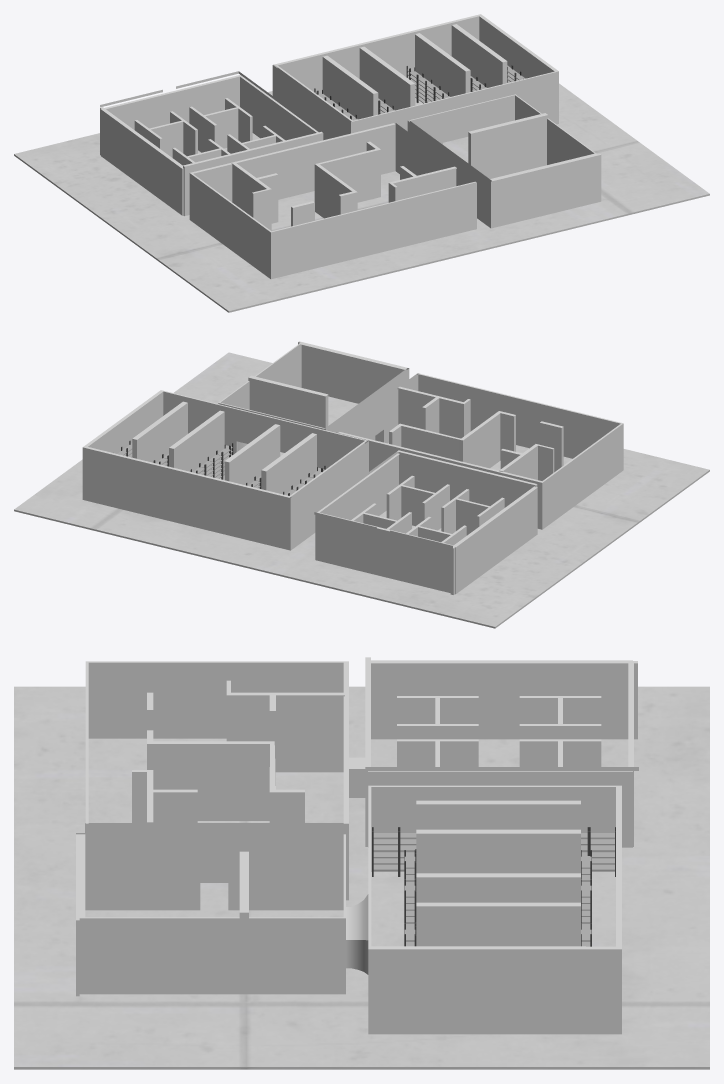
File: leveldesign.fbx
The picture shows the model from 3 angles, top to bottom: view 1: azimuth 30°, elevation 25°; view 2: azimuth 150°, elevation 25°; view 3: azimuth 270°, elevation 25°; orthographic projection. The views are drawn at different scales.
Visible parts, largest first — view 1: Cube.016, Cube.061, Cube.060, Cube.072, Cube.045, Cube.068, Cube.066, Cube.043, Cube.042, Cube.044, Cube.062, Cube.056 (+5 smaller); view 2: Cube.016, Cube.061, Cube.060, Cube.072, Cube.043, Cube.044, Cube.045, Cube.066, Cube.068, Cube.067, Cube.042, Cube.049 (+6 smaller); view 3: Cube.016, Cube.061, Cube.072, Cube.060, Cube.010, Cube.066, Cube.062, Cube.042, Cube.052, Cube.046, Cube.067, Cube.056 (+6 smaller).
Part boxes in pixels (<box>): Cube.016: <box>14,83,709,312</box>; Cube.061: <box>272,14,601,228</box>; Cube.060: <box>189,122,476,279</box>; Cube.072: <box>322,24,507,119</box>; Cube.045: <box>100,109,183,215</box>; Cube.068: <box>468,113,548,178</box>; Cube.066: <box>314,141,380,218</box>; Cube.043: <box>102,75,241,129</box>; Cube.042: <box>239,75,318,140</box>; Cube.044: <box>100,71,323,215</box>; Cube.062: <box>231,162,278,230</box>; Cube.056: <box>189,98,252,152</box>; Cube.016: <box>14,352,709,628</box>; Cube.061: <box>82,341,409,550</box>; Cube.060: <box>336,373,623,529</box>; Cube.072: <box>132,401,316,494</box>; Cube.043: <box>315,512,454,592</box>; Cube.044: <box>314,450,537,548</box>; Cube.045: <box>455,487,537,594</box>; Cube.066: <box>389,411,515,468</box>; Cube.068: <box>248,375,328,427</box>; Cube.067: <box>397,386,470,438</box>; Cube.042: <box>315,453,399,559</box>; Cube.049: <box>386,475,449,530</box>; Cube.016: <box>14,686,709,1069</box>; Cube.061: <box>76,784,621,1034</box>; Cube.072: <box>416,800,580,946</box>; Cube.060: <box>85,661,360,900</box>; Cube.010: <box>371,661,637,739</box>; Cube.066: <box>147,730,304,822</box>; Cube.062: <box>226,680,344,785</box>; Cube.042: <box>368,771,632,847</box>; Cube.052: <box>519,696,601,739</box>; Cube.046: <box>397,696,478,739</box>; Cube.067: <box>132,770,197,823</box>; Cube.056: <box>519,739,601,766</box>.
Bounding box in the file's own units: 6232 × 896 × 4818.
Materials: 9 (2 with a texture image).
